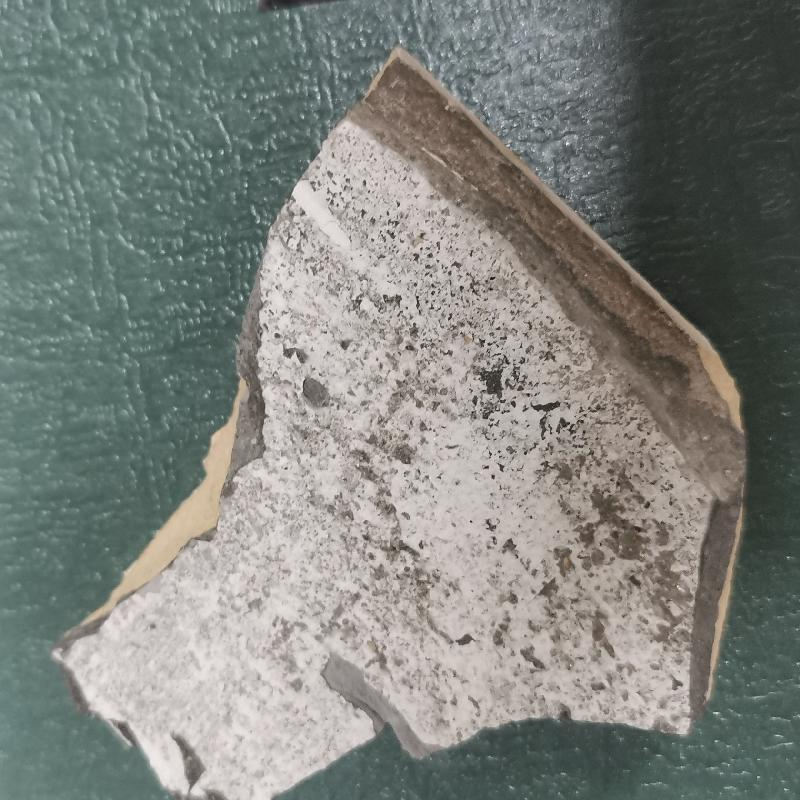tile: (52, 44, 758, 793)
